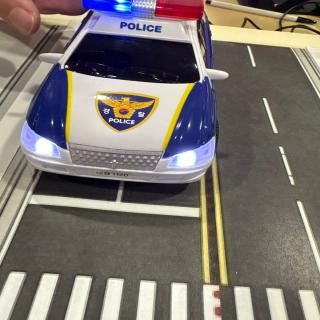Police_car: (21, 0, 228, 183)
